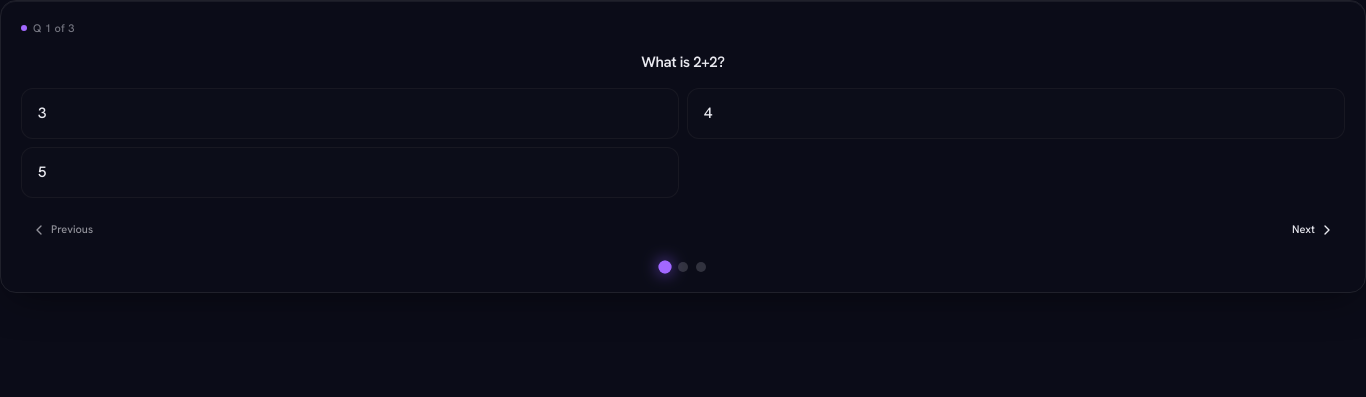
Test: QuizArena › should show explanation after selecting correct answer
Click the button "4" at (708, 113), box 687,88 -> 1345,139
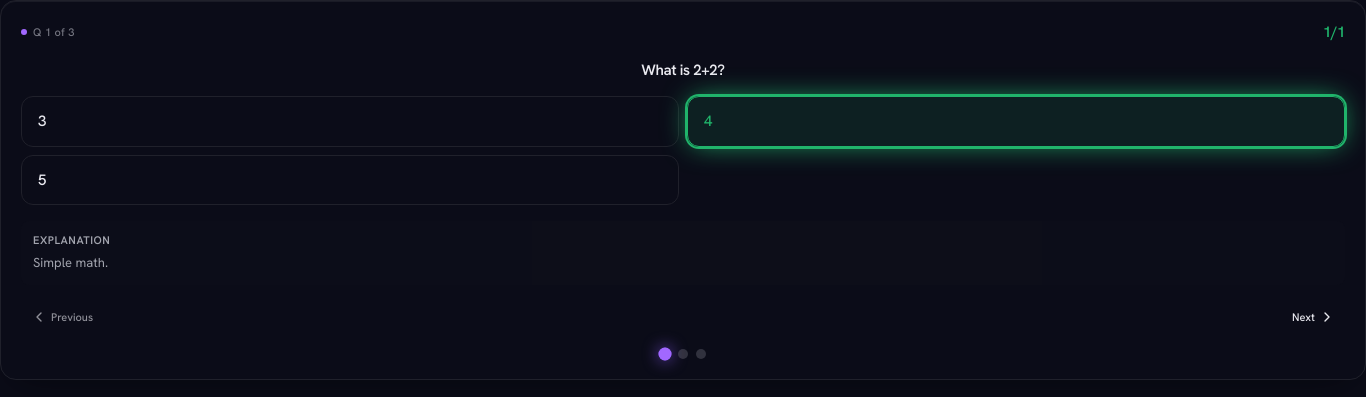
Check: the text "Explanation" is shown, box 33,233 -> 110,247
Check: the text "Simple math." is shown, box 33,254 -> 108,271
